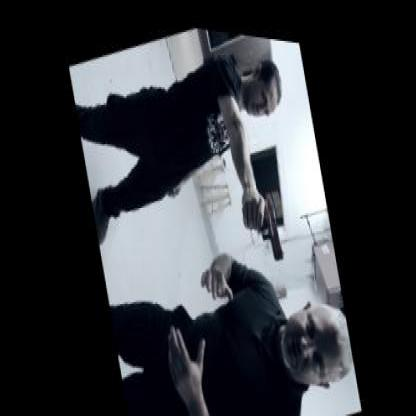pistol: (254, 184, 284, 257)
